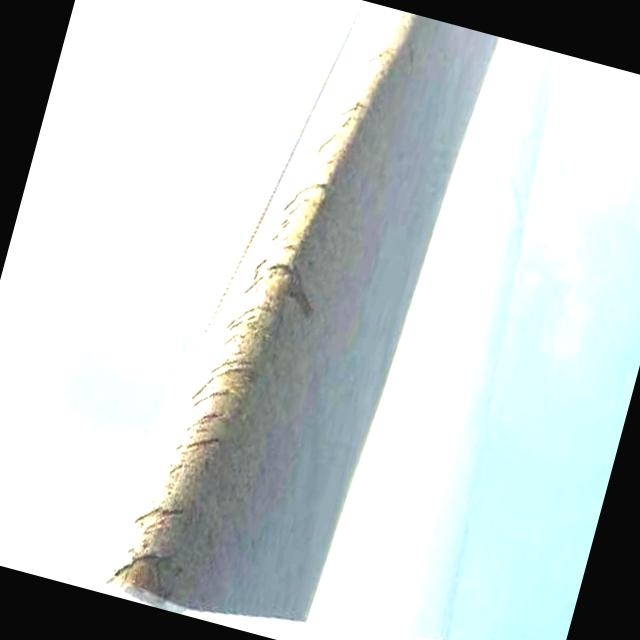corrosion: (118, 241, 293, 590), (267, 8, 426, 277)
